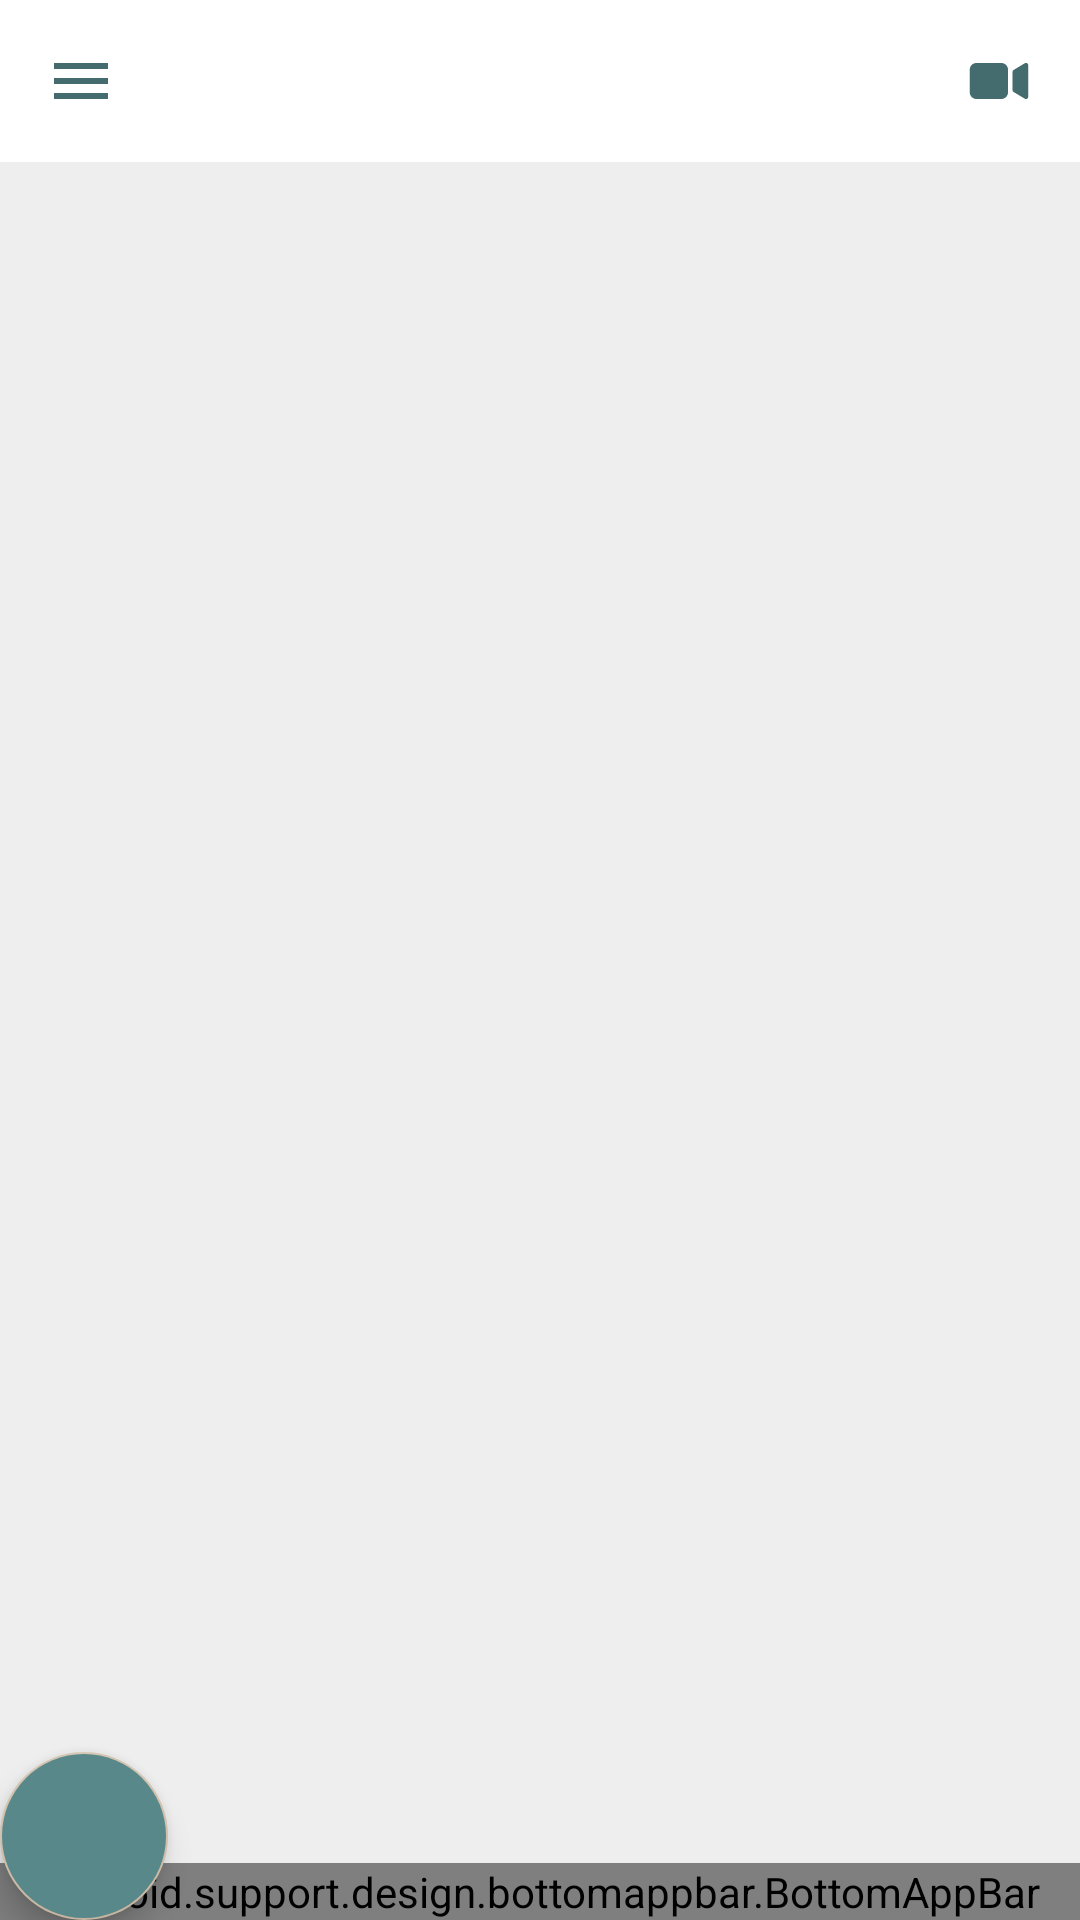

Icons on this 1080px×1920px Android screen, each with the point to tap as [x,y]:
menu: [81,81]
video: [999,81]
